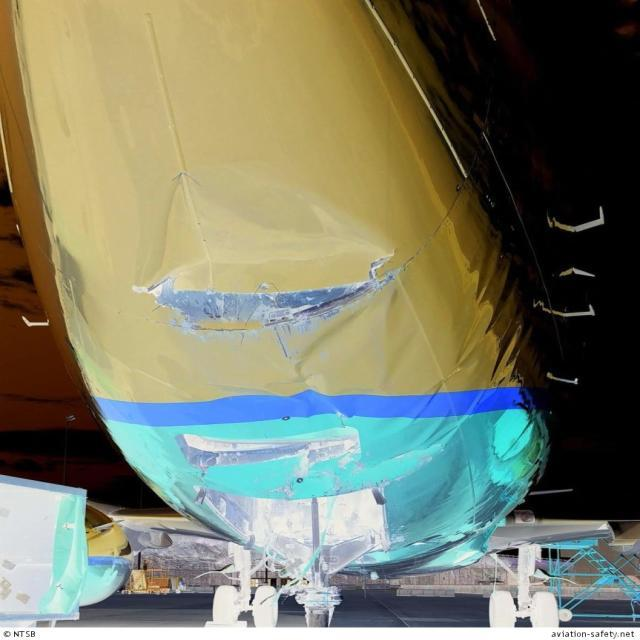dent: (154, 172, 389, 272), (290, 296, 389, 391)
